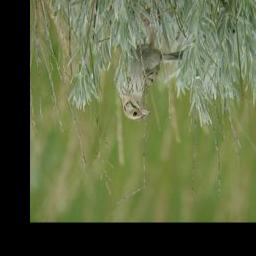Sparrow: (110, 11, 188, 126)
